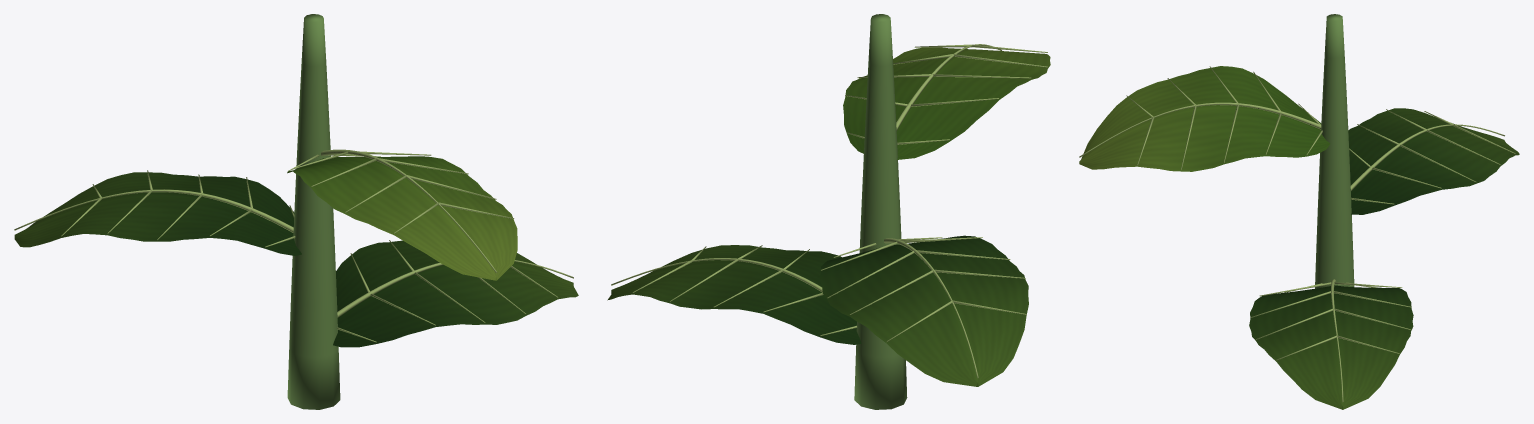
File: bellflower-02.glb
3 views of the same model, side by side, from view 1: azimuth 30°, elevation 25°; view 2: azimuth 150°, elevation 25°; view 3: azimuth 270°, elevation 25° (orthographic). The views are drawn at different scales.
Visible parts, largest first — view 1: bellflower_stage_02_leaf_veins.002, bellflower_stage_02_young_leaf.002, bellflower_stage_02_stem_fibres.002, bellflower_stage_02_raised_midveins.002; view 2: bellflower_stage_02_leaf_veins.002, bellflower_stage_02_young_leaf.002, bellflower_stage_02_stem_fibres.002, bellflower_stage_02_raised_midveins.002; view 3: bellflower_stage_02_leaf_veins.002, bellflower_stage_02_young_leaf.002, bellflower_stage_02_stem_fibres.002, bellflower_stage_02_raised_midveins.002.
Part boxes in pixels (x1,y1,x2,y2): bellflower_stage_02_leaf_veins.002: [14, 172, 578, 347]; bellflower_stage_02_young_leaf.002: [287, 156, 517, 280]; bellflower_stage_02_stem_fibres.002: [287, 14, 340, 409]; bellflower_stage_02_raised_midveins.002: [14, 149, 573, 342]; bellflower_stage_02_leaf_veins.002: [607, 235, 1028, 386]; bellflower_stage_02_young_leaf.002: [843, 47, 1050, 159]; bellflower_stage_02_stem_fibres.002: [854, 14, 907, 409]; bellflower_stage_02_raised_midveins.002: [611, 44, 1047, 378]; bellflower_stage_02_leaf_veins.002: [1249, 108, 1519, 409]; bellflower_stage_02_young_leaf.002: [1079, 66, 1330, 171]; bellflower_stage_02_stem_fibres.002: [1315, 14, 1354, 288]; bellflower_stage_02_raised_midveins.002: [1079, 66, 1515, 402].
Size of the model in its own units: 0.0823 by 0.0633 by 0.0789.
Materials: 4 (2 with a texture image).
